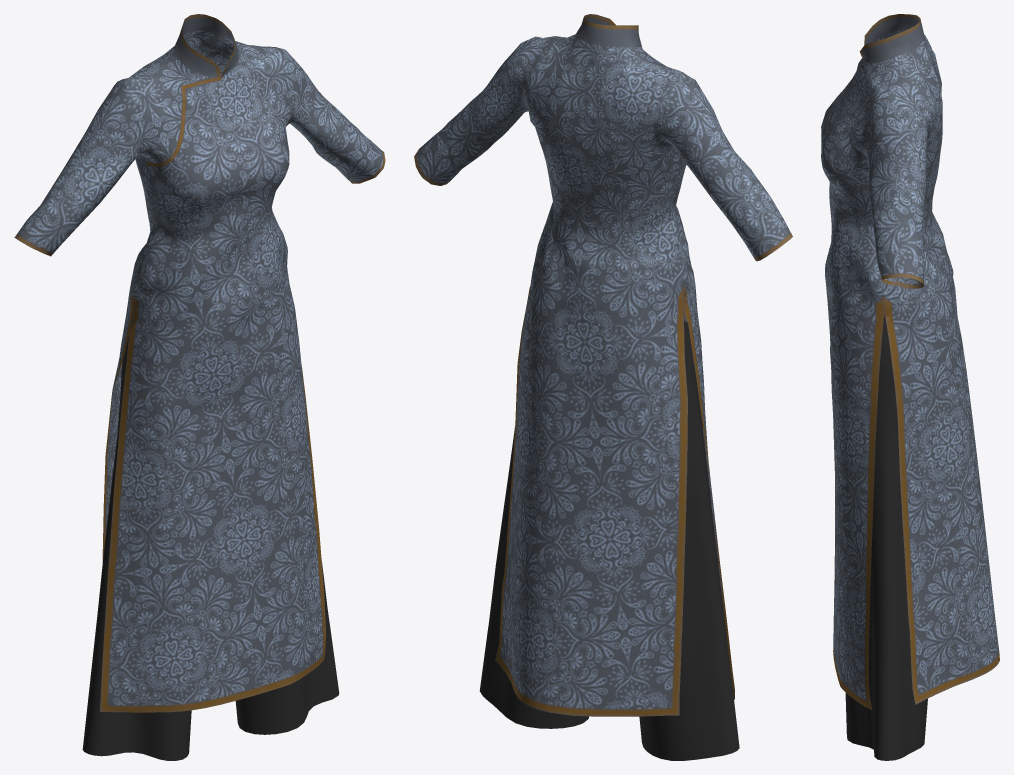
File: ao_dai.glb
3 renders of one model, left to right at view 1: azimuth 30°, elevation 25°; view 2: azimuth 150°, elevation 25°; view 3: azimuth 270°, elevation 25°, orthographic. The views are drawn at different scales.
Parts seen in each view (by area): view 1: clean3; view 2: clean3; view 3: clean3.
Boxes of the visible parts, box(x1,y1,x2,y2) form: clean3: box(14, 14, 385, 760); clean3: box(414, 14, 792, 760); clean3: box(821, 14, 999, 760).
Bounding box in the file's own units: 0.8087 × 1.5 × 0.35.
1 material, 1 textured.
